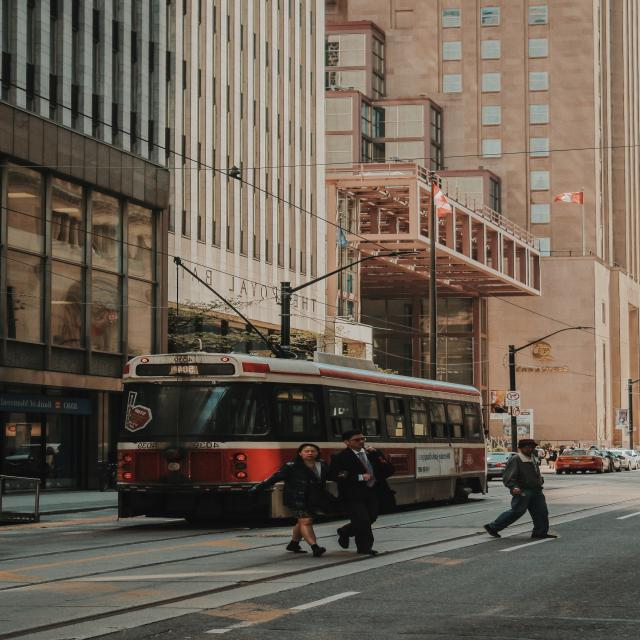adult: (247, 442, 345, 562), (483, 437, 558, 542), (330, 429, 390, 558)
